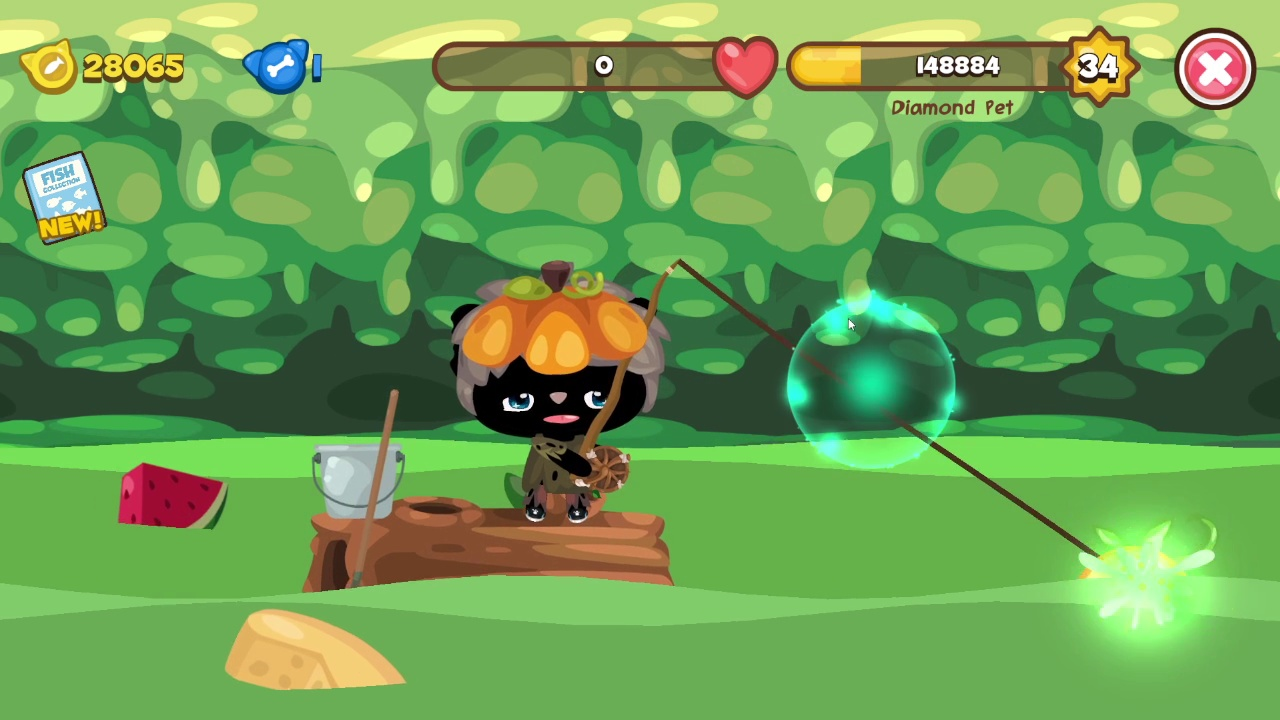point: (786, 297, 959, 474)
